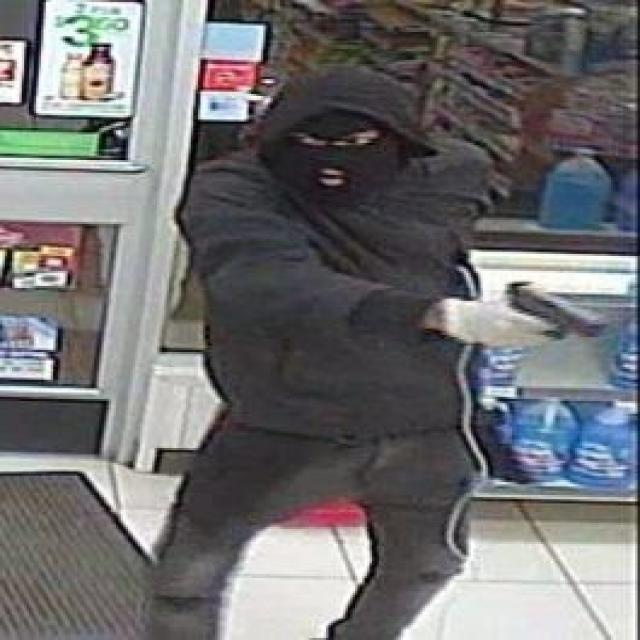gun: (500, 278, 605, 337)
